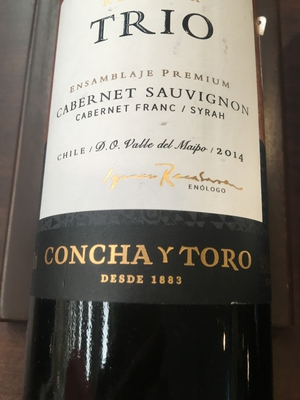trio cabernet sauvignon: (39, 1, 278, 390)
